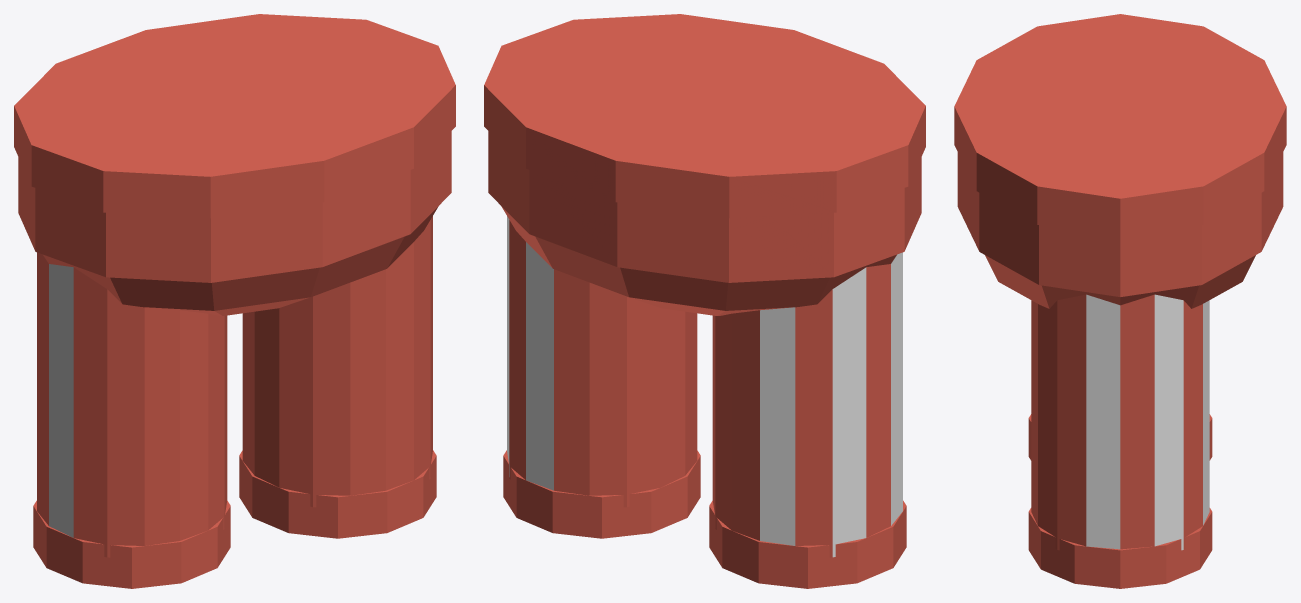
The model's file is pants_abibas.glb.
3 renders of one model, left to right at view 1: azimuth 30°, elevation 25°; view 2: azimuth 150°, elevation 25°; view 3: azimuth 270°, elevation 25°, orthographic. The views are drawn at different scales.
Parts seen in each view (by area): view 1: Torso, LegL, LegR; view 2: Torso, LegL, LegR; view 3: Torso, LegR.
Part boxes in pixels (x1,y1,x2,y2): Torso: [14, 14, 455, 315]; LegL: [33, 252, 230, 588]; LegR: [239, 216, 436, 538]; Torso: [484, 14, 925, 315]; LegL: [709, 252, 906, 588]; LegR: [503, 216, 700, 538]; Torso: [954, 14, 1286, 308]; LegR: [1028, 294, 1212, 588].
Size of the model in its own units: 0.514 by 0.515 by 0.3906.
